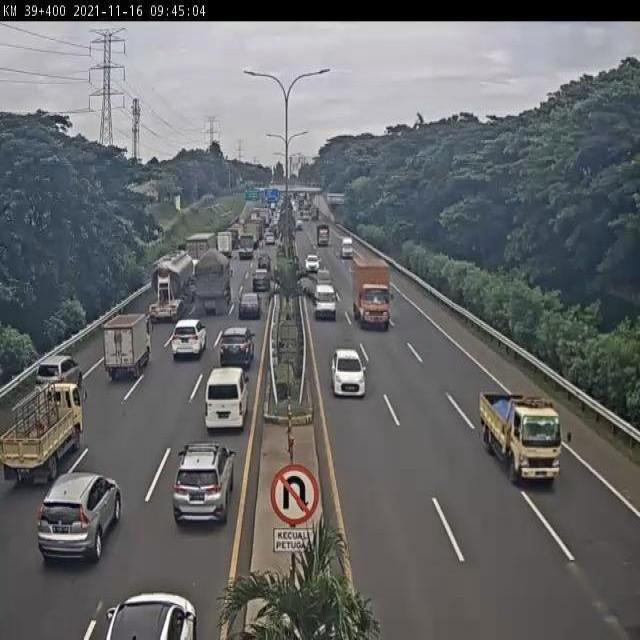car: (40, 476, 121, 559), (172, 441, 234, 524), (37, 353, 83, 399), (332, 350, 366, 398), (171, 320, 206, 357), (219, 328, 251, 365), (315, 287, 338, 320), (237, 297, 259, 327), (252, 273, 271, 295), (256, 254, 273, 278), (305, 254, 321, 274), (315, 266, 331, 286)
mid truck: (190, 252, 234, 313)
small bus: (205, 369, 248, 427)
small truck: (477, 390, 563, 482), (0, 385, 79, 480), (101, 317, 151, 384)
truck-l-: (180, 236, 217, 292)
truck-m-: (353, 257, 392, 332)
truck-xl-: (145, 250, 196, 326)
